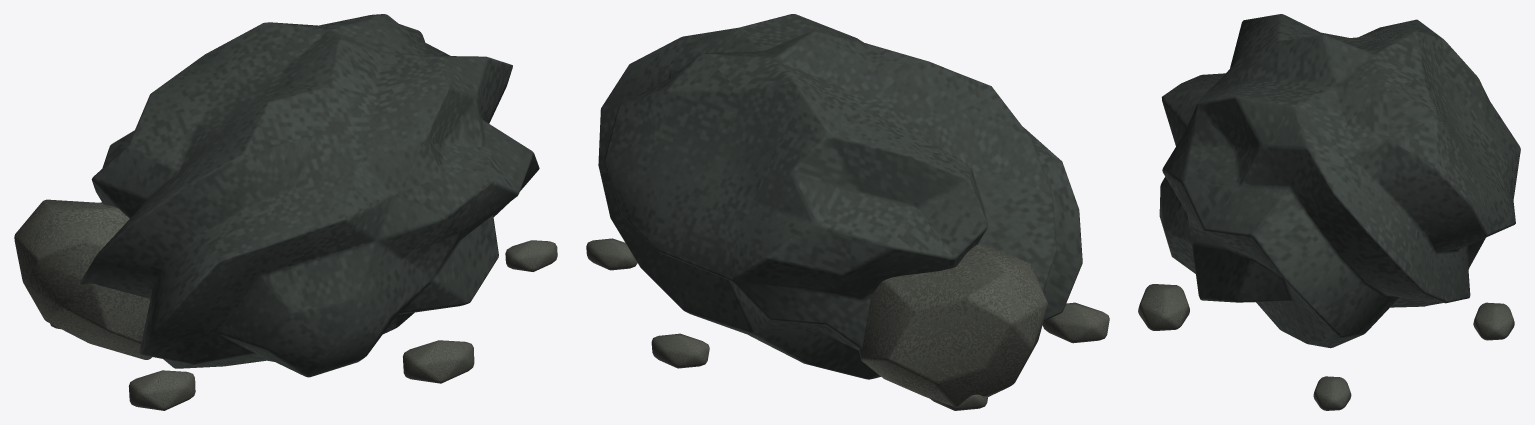
The model's file is prop_rock_01.glb.
3 renders of one model, left to right at view 1: azimuth 30°, elevation 25°; view 2: azimuth 150°, elevation 25°; view 3: azimuth 270°, elevation 25°, orthographic.
Parts seen in each view (by area): view 1: MainRock, SecondaryRock, Pebble_04, Pebble_03, Pebble_00; view 2: MainRock, SecondaryRock, Pebble_03, Pebble_01, Pebble_00; view 3: MainRock, Pebble_04, Pebble_01, Pebble_00.
Boxes of the visible parts, x1=… form: MainRock: x1=80, y1=14, x2=539, y2=377; SecondaryRock: x1=14, y1=199, x2=152, y2=359; Pebble_04: x1=403, y1=340, x2=474, y2=383; Pebble_03: x1=128, y1=370, x2=195, y2=410; Pebble_00: x1=505, y1=240, x2=557, y2=271; MainRock: x1=598, y1=14, x2=1082, y2=379; SecondaryRock: x1=859, y1=243, x2=1047, y2=406; Pebble_03: x1=1042, y1=302, x2=1109, y2=343; Pebble_01: x1=651, y1=333, x2=709, y2=368; Pebble_00: x1=586, y1=238, x2=637, y2=270; MainRock: x1=1159, y1=14, x2=1520, y2=348; Pebble_04: x1=1138, y1=284, x2=1189, y2=330; Pebble_01: x1=1473, y1=302, x2=1514, y2=340; Pebble_00: x1=1313, y1=376, x2=1351, y2=410.
Size of the model in its own units: 1.79 by 1.07 by 1.23.
Materials: 2 (2 with a texture image).
